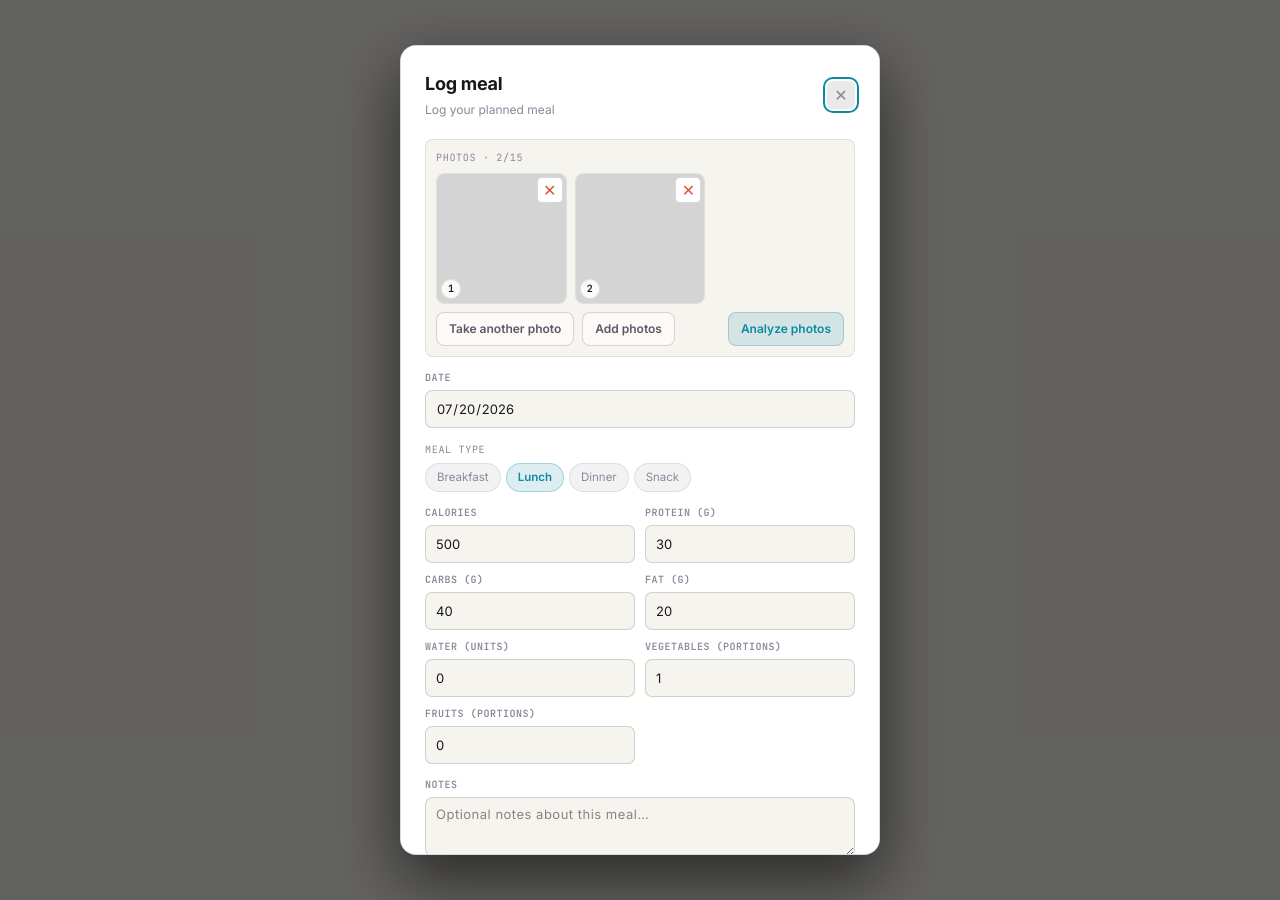
Scenario: MealLogModal multi-photo behavior › persists the ordered set before explicit combined analysis
Click the 3rd button named "Analyze photos": [786, 329] box [728,312,844,346]
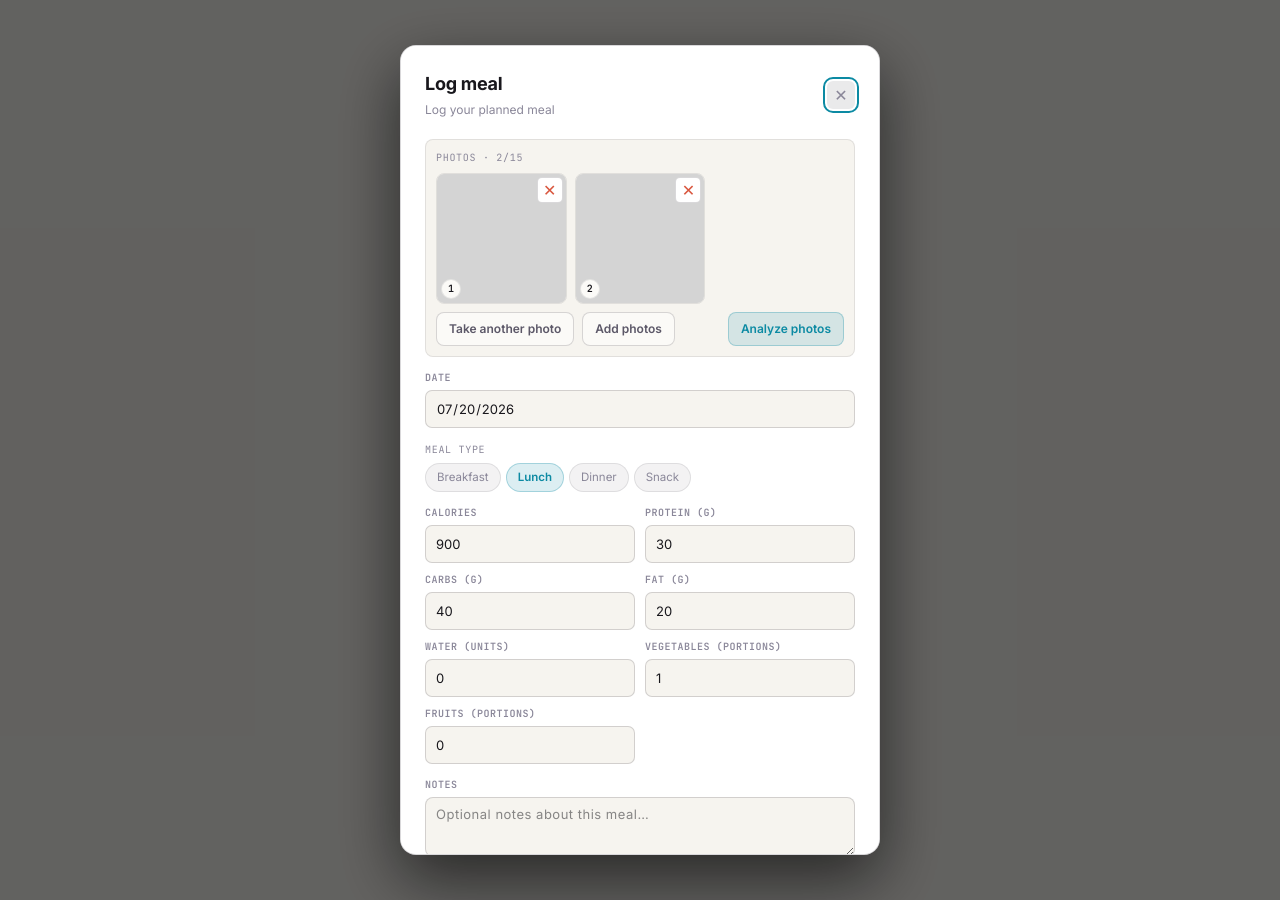
Result: the number field showing "900" is shown at [425,525,635,563]
